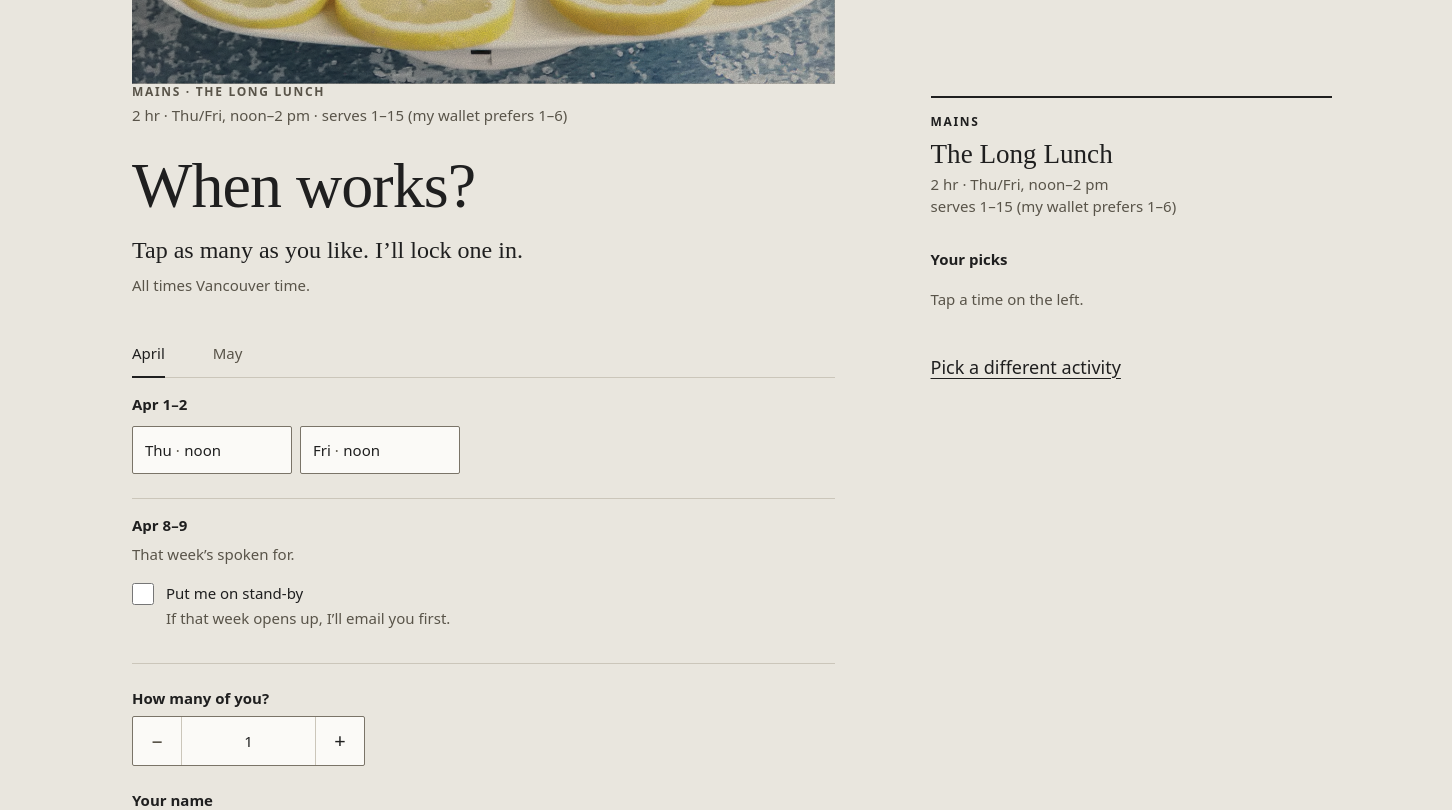
Test case: S6 picker (T1.5.U2-U5) › names each tile the pack way and toggles aria-pressed on click, announcing the count
(page scrolled)
Click the button "Thu · noon".
click(212, 450)  # box [132,426,292,474]
(page scrolled)
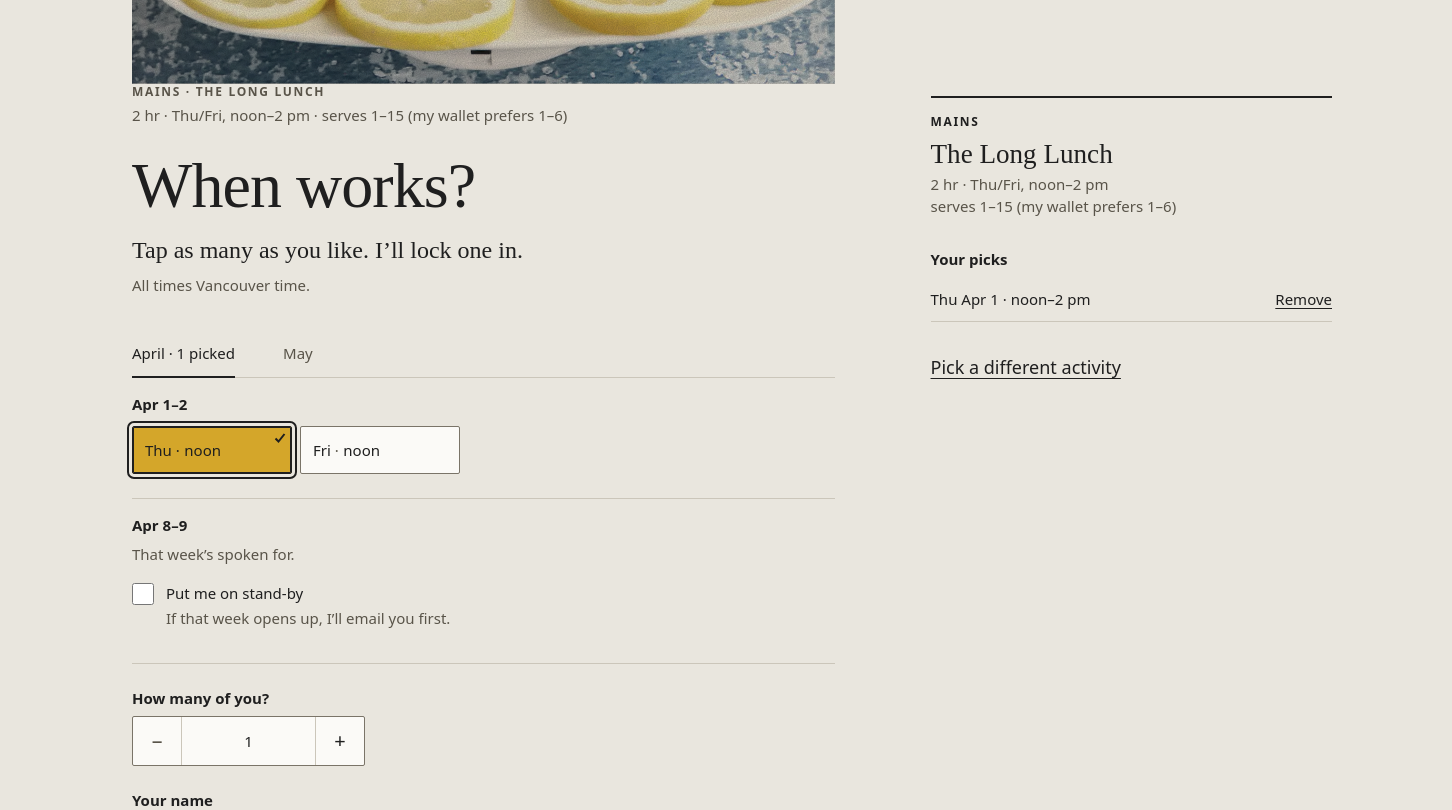
Click the button "Thu · noon".
click(212, 450)  # box [132,426,292,474]
(page scrolled)
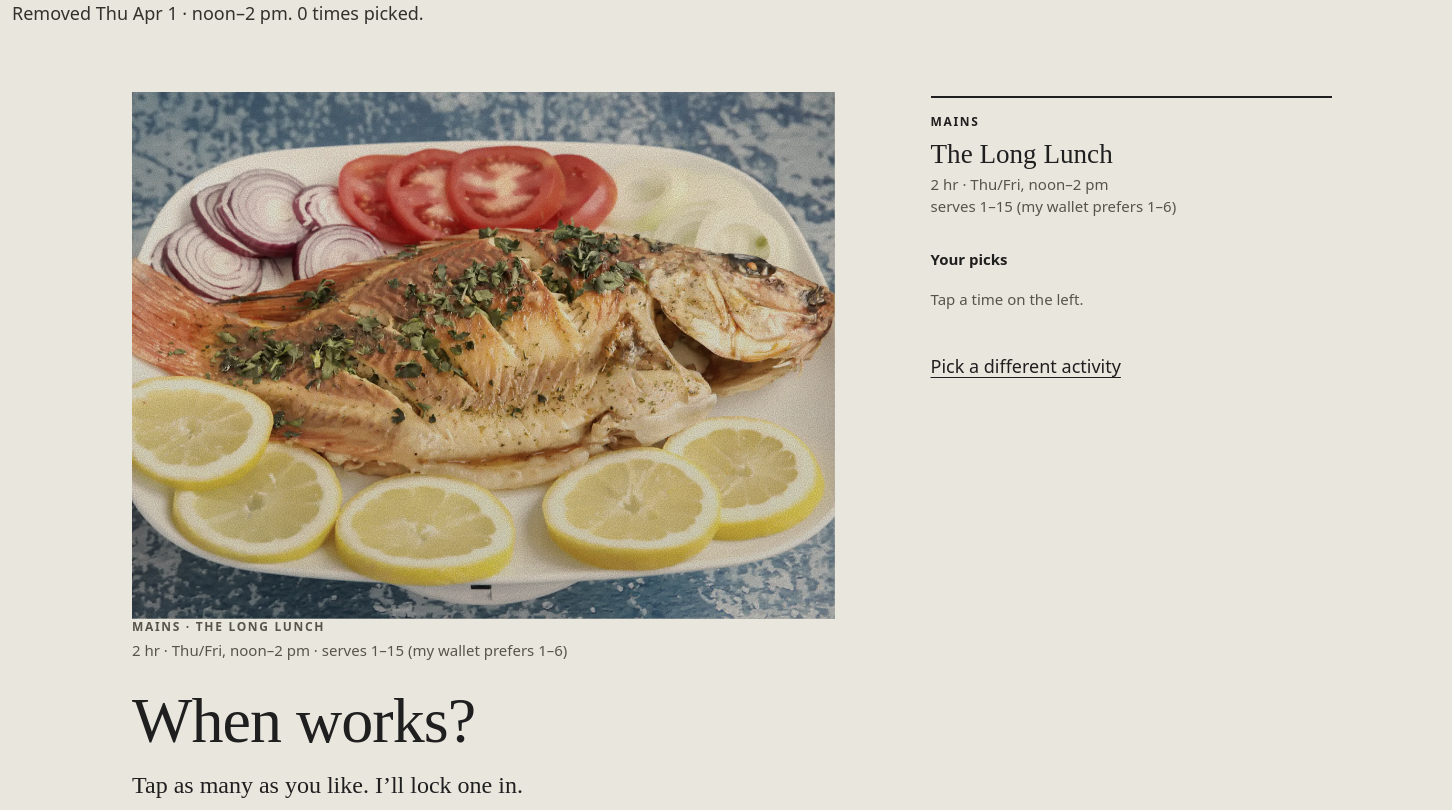
Check: the text with id "live" reads "Removed Thu Apr 1 · noon–2 pm. 0 times picked.", box [12,1,424,25]
